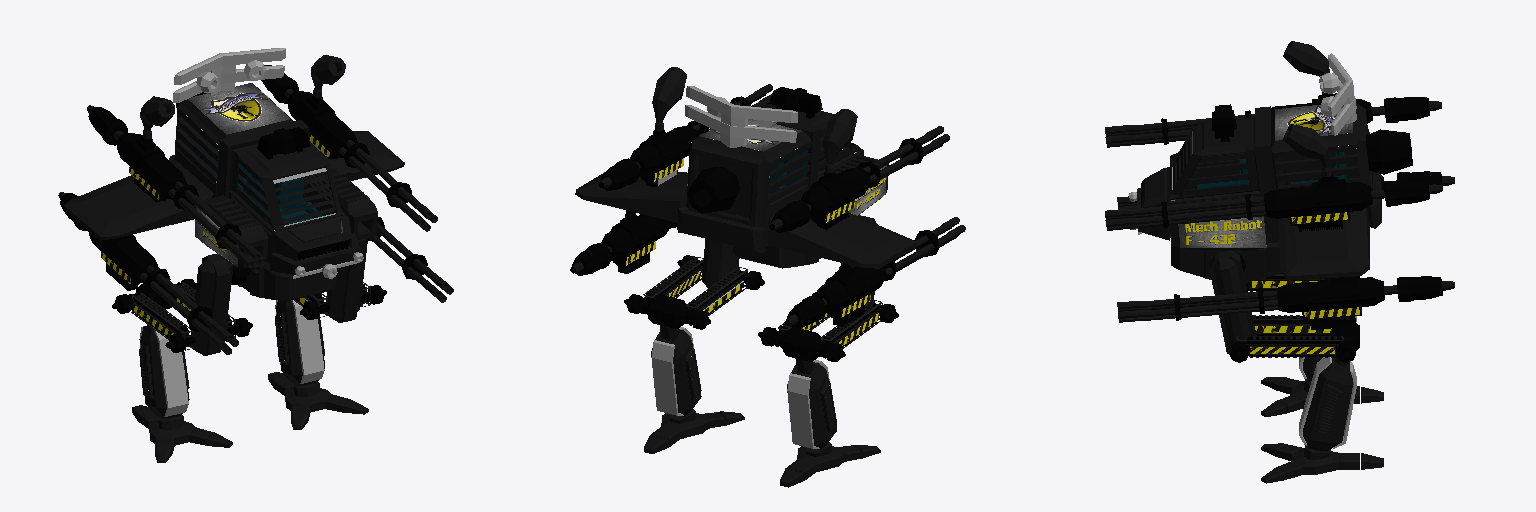
3 views of the same model, side by side, from view 1: azimuth 30°, elevation 25°; view 2: azimuth 150°, elevation 25°; view 3: azimuth 270°, elevation 25° (orthographic).
Visible parts, largest first — view 1: Mech_F_432_Cube.002; view 2: Mech_F_432_Cube.002; view 3: Mech_F_432_Cube.002.
Part boxes in pixels (x1,y1,x2,y2): Mech_F_432_Cube.002: (58, 48, 453, 462); Mech_F_432_Cube.002: (570, 67, 965, 487); Mech_F_432_Cube.002: (1105, 41, 1454, 483).
Bounding box in the file's own units: 6.12 × 6.78 × 6.11.
Materials: 19 (13 with a texture image).